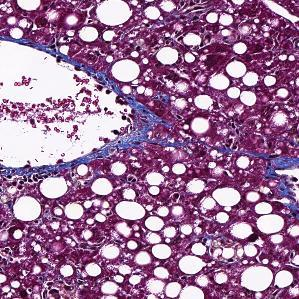fibrosis: (114, 105, 177, 163)
